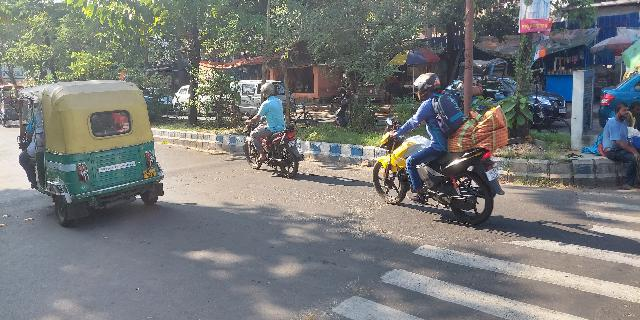Autorickshaw: (12, 82, 168, 232)
Motorbike: (367, 77, 511, 226), (233, 81, 307, 181)
